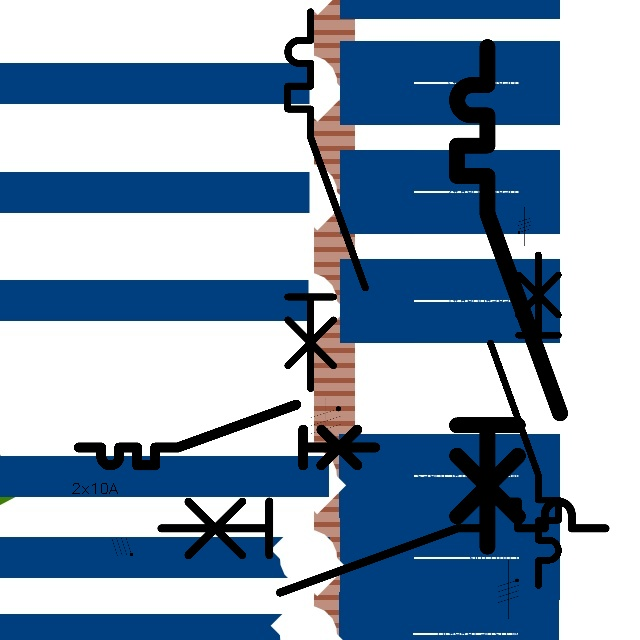interruptor_termomagnetico: (444, 34, 572, 560), (149, 490, 617, 604), (278, 2, 375, 398), (482, 246, 567, 594), (71, 397, 383, 473)
